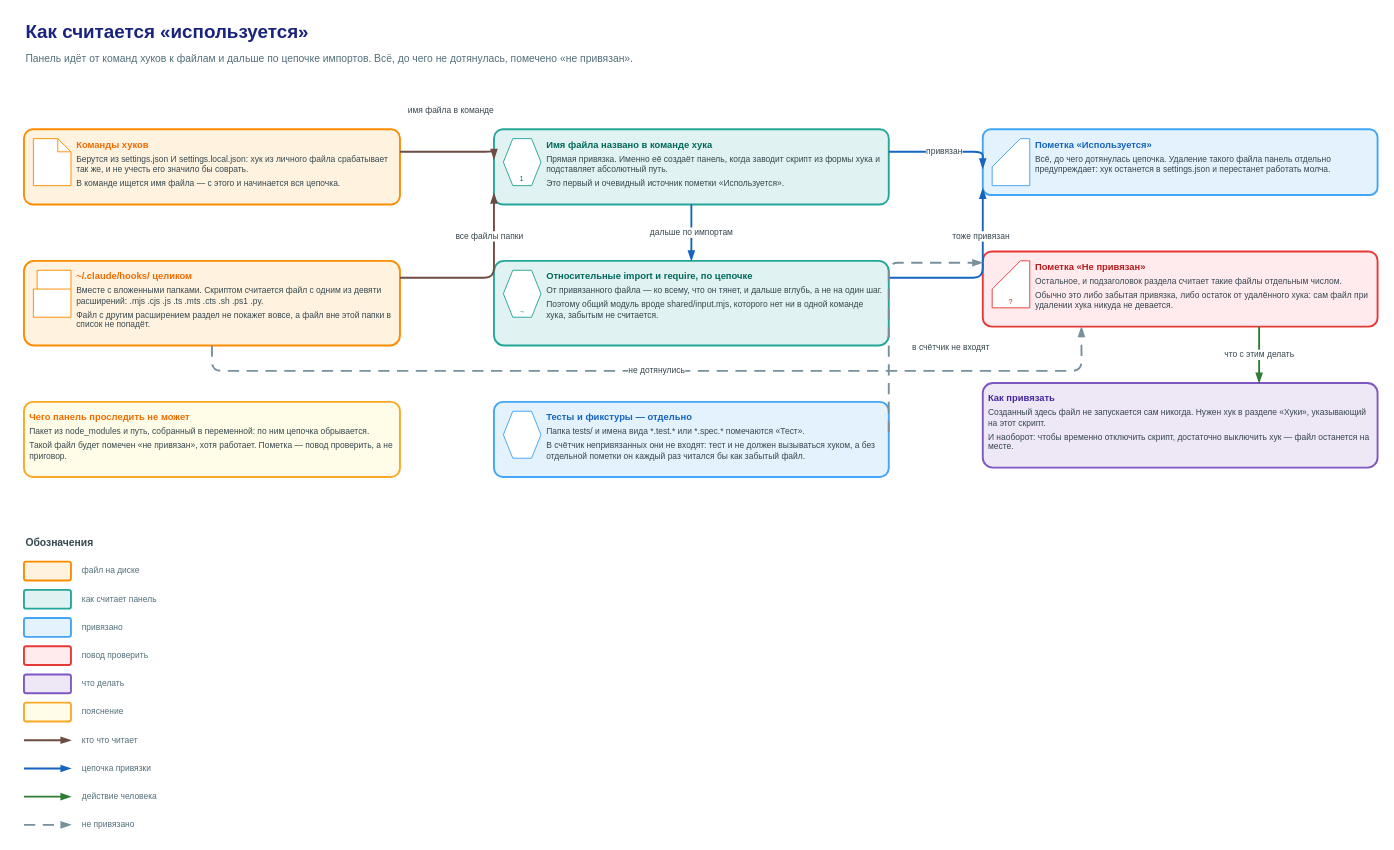
Some shapes in this 1394 by 850 pixel diagram are drawn without their labels. The shapes that lost their labels are listed below. From the top down, each one's centre as x and y in pixels, then its label:
point 51,162: json
point 1010,162: ok
point 51,293: hooks
point 521,434: test
